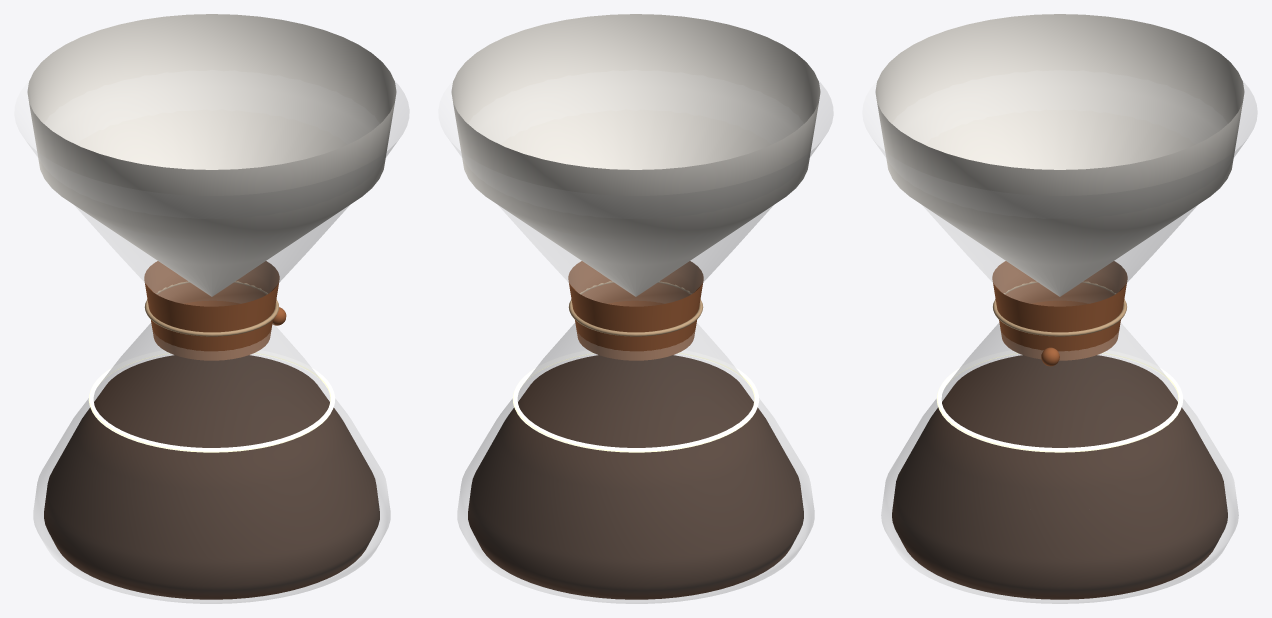
Rendered from chemex.glb.
The picture shows the model from 3 angles, left to right: view 1: azimuth 30°, elevation 25°; view 2: azimuth 150°, elevation 25°; view 3: azimuth 270°, elevation 25°; orthographic projection.
Visible parts, largest first — view 1: MOKA Chemex; view 2: MOKA Chemex; view 3: MOKA Chemex.
Part boxes in pixels (x1,y1,x2,y2): MOKA Chemex: [15, 14, 408, 603]; MOKA Chemex: [439, 14, 832, 603]; MOKA Chemex: [863, 14, 1256, 603].
Bounding box in the file's own units: 0.1932 × 0.241 × 0.1932.
